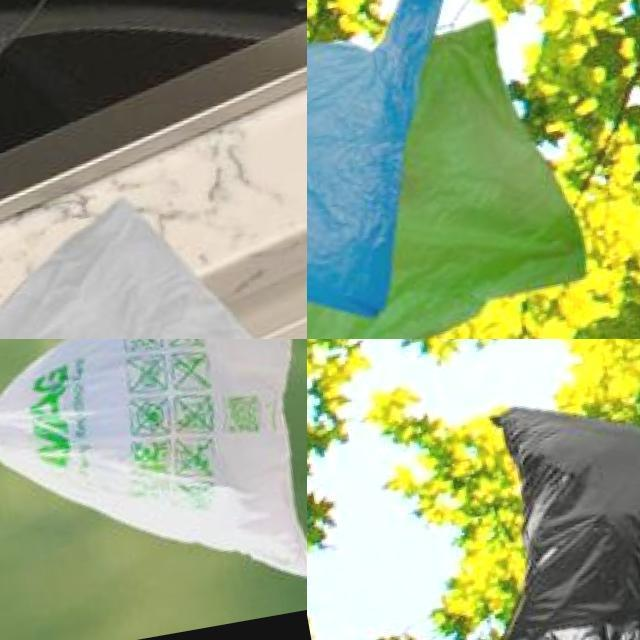waste: (307, 15, 602, 339), (0, 339, 307, 627), (307, 0, 507, 339), (461, 344, 640, 640), (0, 194, 267, 339)
